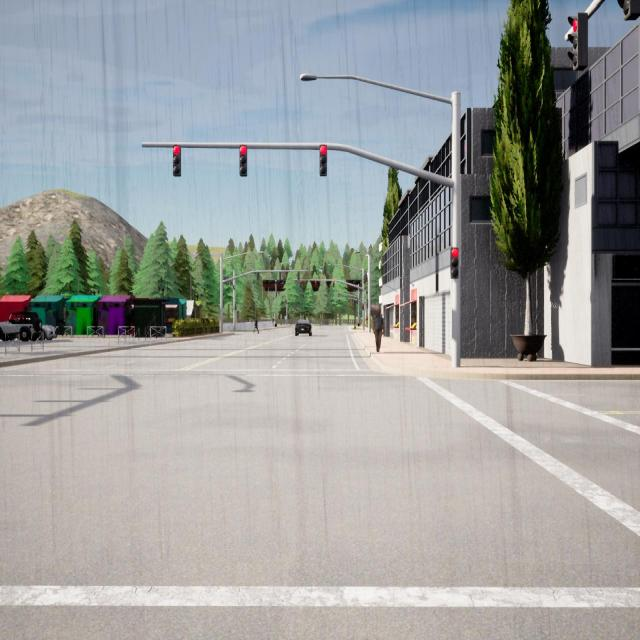Pedestrian: (372, 309, 386, 354), (253, 319, 259, 334)
Traffic_Signs: (284, 316, 288, 320)
Vehicle: (0, 310, 43, 342), (295, 319, 312, 337), (41, 325, 57, 341)
traffic_light: (568, 13, 588, 71), (617, 0, 640, 21), (173, 145, 181, 177), (319, 144, 327, 176), (240, 144, 247, 177), (451, 248, 458, 279), (297, 271, 300, 280), (362, 302, 364, 310), (300, 280, 302, 288), (257, 272, 259, 280), (280, 272, 282, 280), (333, 280, 335, 288), (222, 300, 224, 308), (363, 276, 365, 283), (314, 280, 316, 286), (367, 274, 368, 282), (338, 294, 340, 298), (348, 298, 350, 302), (365, 275, 366, 282), (235, 304, 236, 310), (339, 299, 340, 302), (331, 299, 332, 302)
